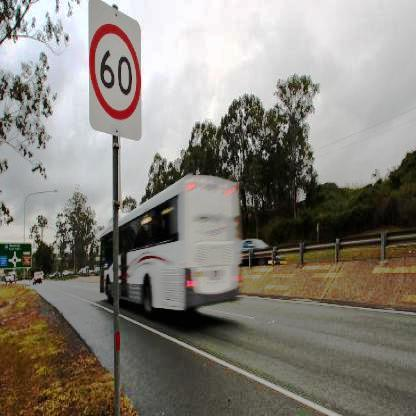Speed Limit -60-: (88, 22, 142, 122)
